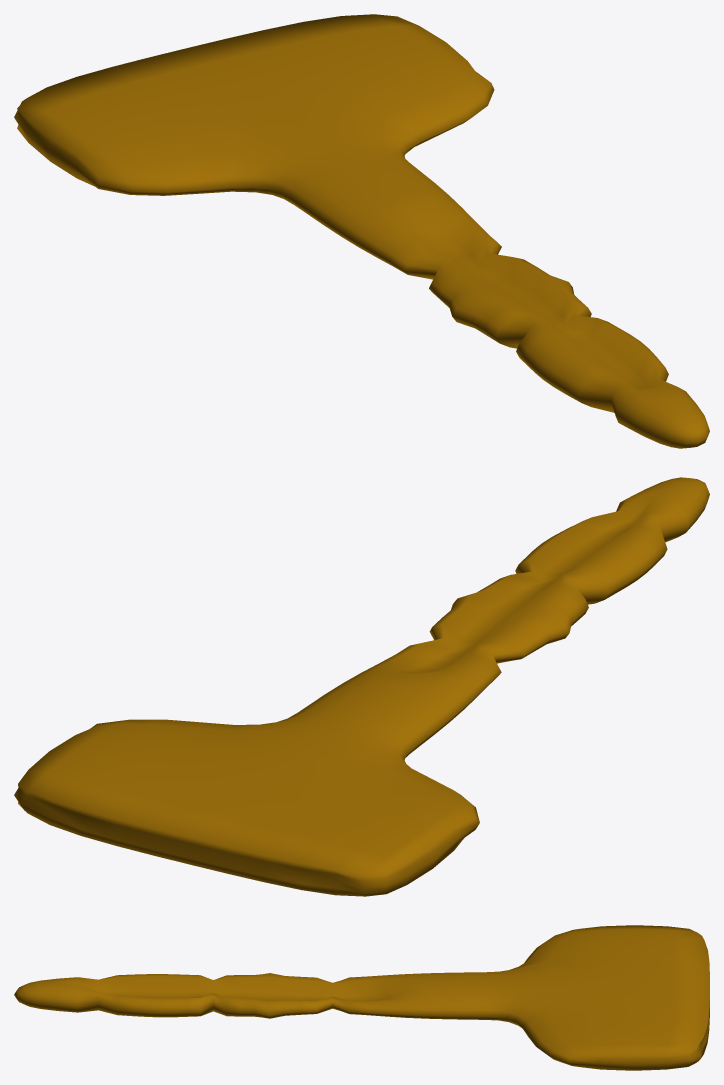
The model's file is key.fbx.
3 renders of one model, top to bottom at view 1: azimuth 30°, elevation 25°; view 2: azimuth 150°, elevation 25°; view 3: azimuth 270°, elevation 25°, orthographic. The views are drawn at different scales.
Visible parts, largest first — view 1: Cube; view 2: Cube; view 3: Cube.
Boxes of the visible parts, <box> form: Cube: <box>14,14,709,448</box>; Cube: <box>14,477,709,896</box>; Cube: <box>14,925,709,1070</box>.
Size of the model in its own units: 85.38 by 8.53 by 189.
